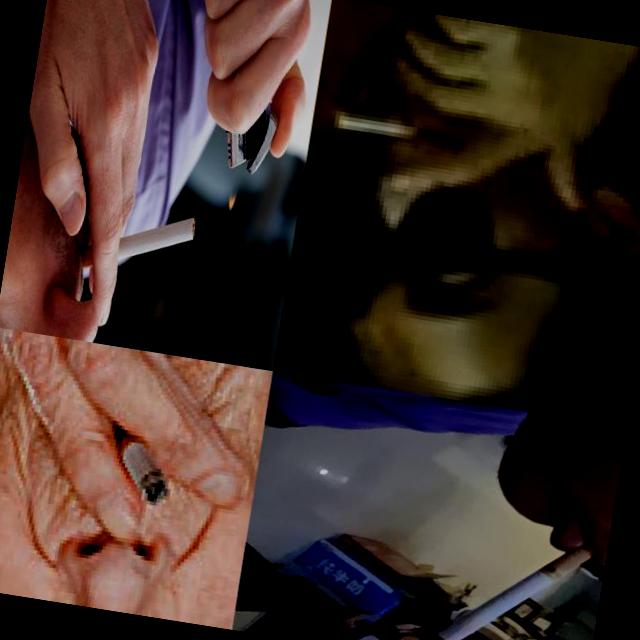smoke: (431, 525, 596, 640), (73, 200, 197, 286), (104, 426, 179, 510), (332, 106, 430, 144)
